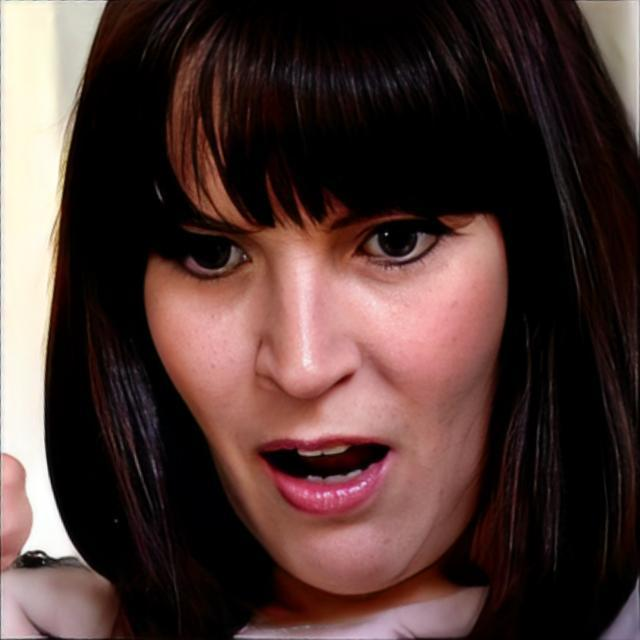surprise: (141, 16, 511, 598)
